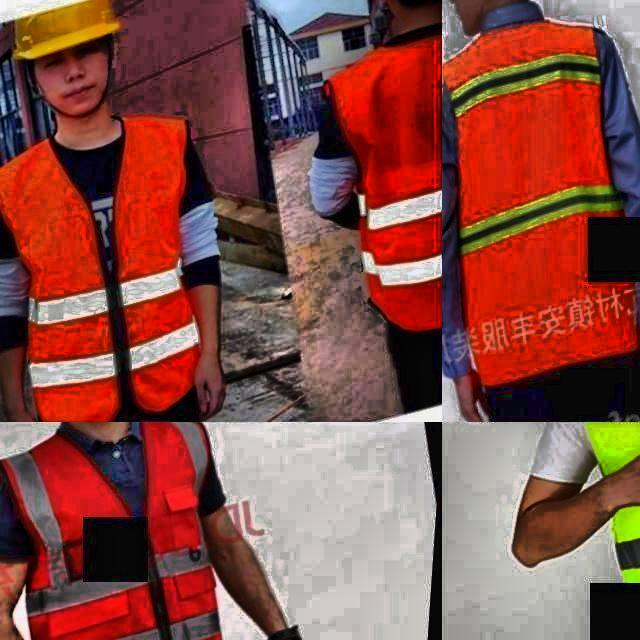safety_jacket: (442, 3, 640, 387), (0, 100, 234, 422), (0, 422, 269, 640), (324, 22, 442, 336), (560, 422, 640, 640)
